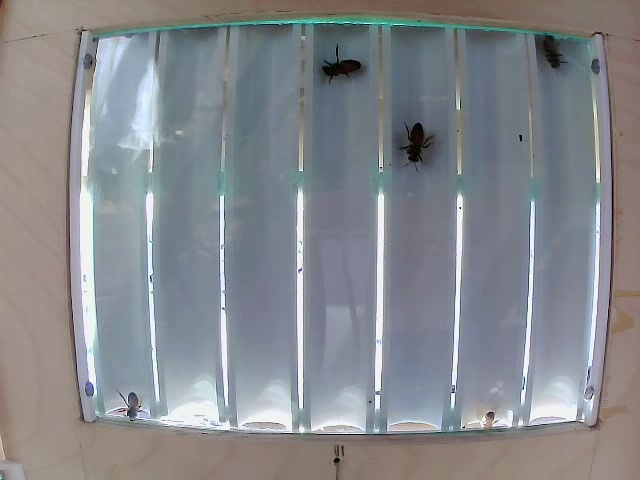bee: (398, 121, 431, 173), (527, 35, 565, 76), (322, 54, 363, 89)
